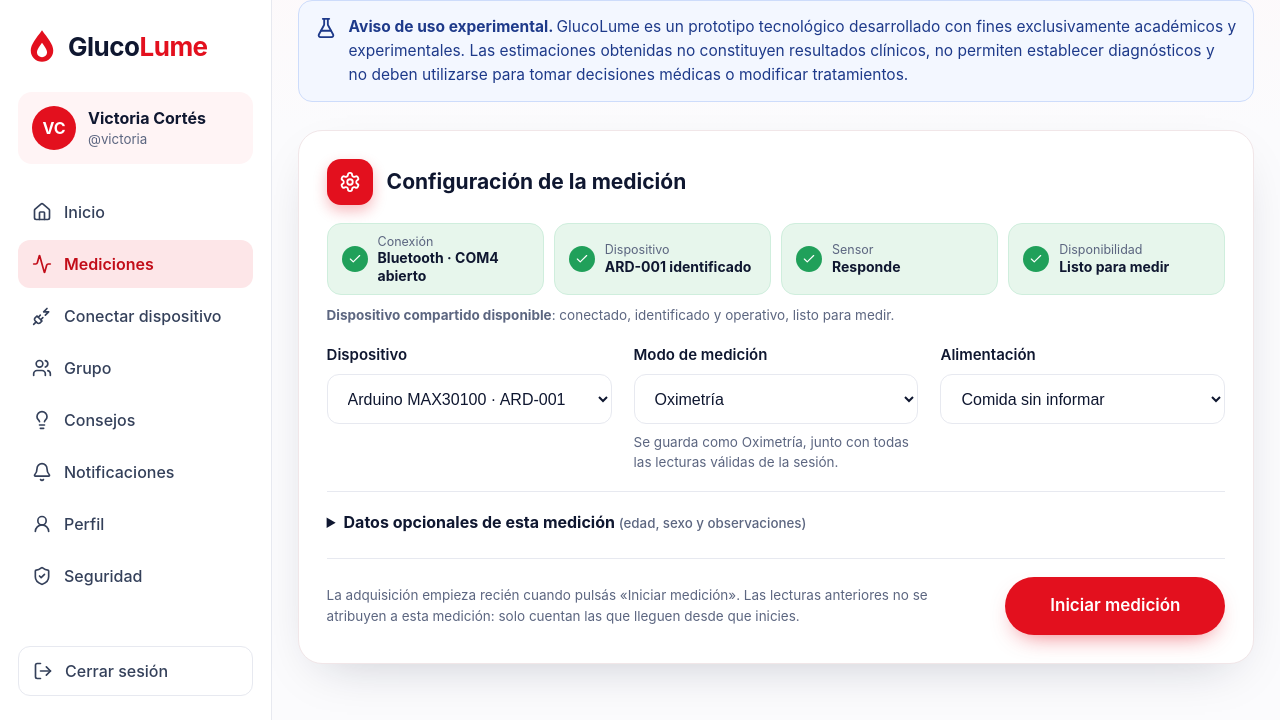
Test: Nueva medición con el dispositivo: pantalla inicial y estado de la conexión › si el backend rechaza el inicio por identidad sin confirmar, el motivo se muestra y el estado se vuelve a consultar
This screenshot has width=1280, height=720.
(page scrolled)
Click the button "Iniciar medición". click: coordinates (1115, 606)
box: [1005,576,1225,634]
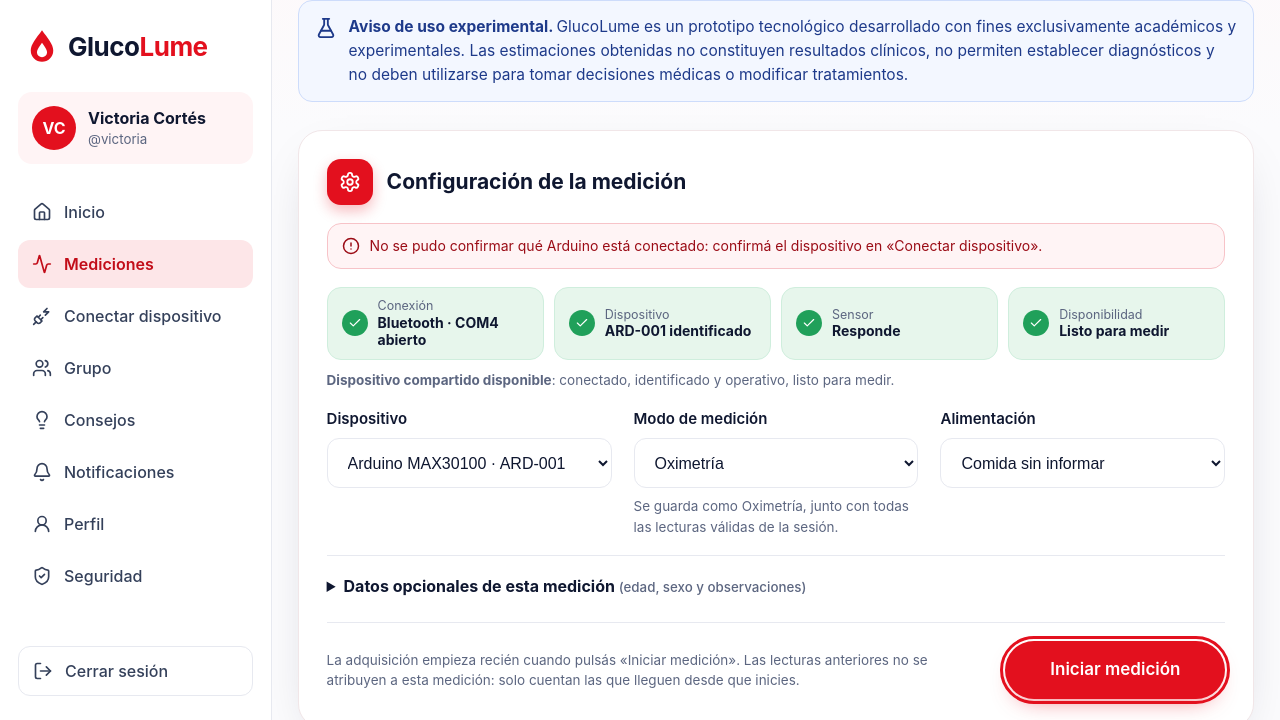
Check: the text "No se pudo confirmar qué Arduino está conectado" is shown, box [370,237,1042,254]
